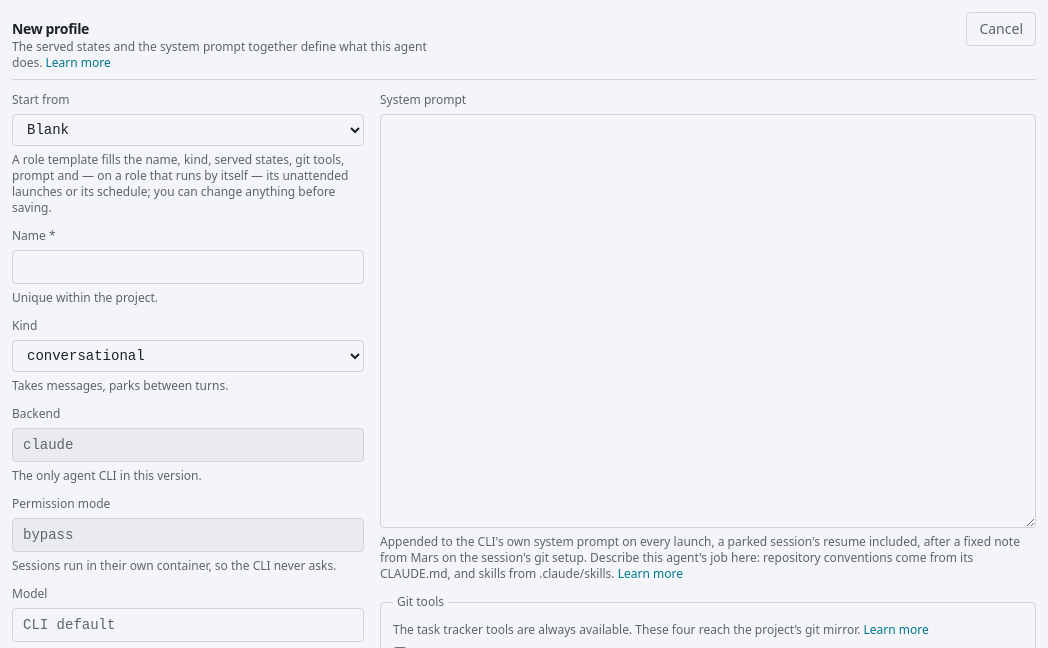
Test: ProfilesTab › keeps a half-written editor when the profiles refetch fails
This screenshot has width=1048, height=648.
# The label carries the required marker: `Name *`.
Type "scout" into the field labelled "Name *" at (188, 267), box [12,250,364,284]
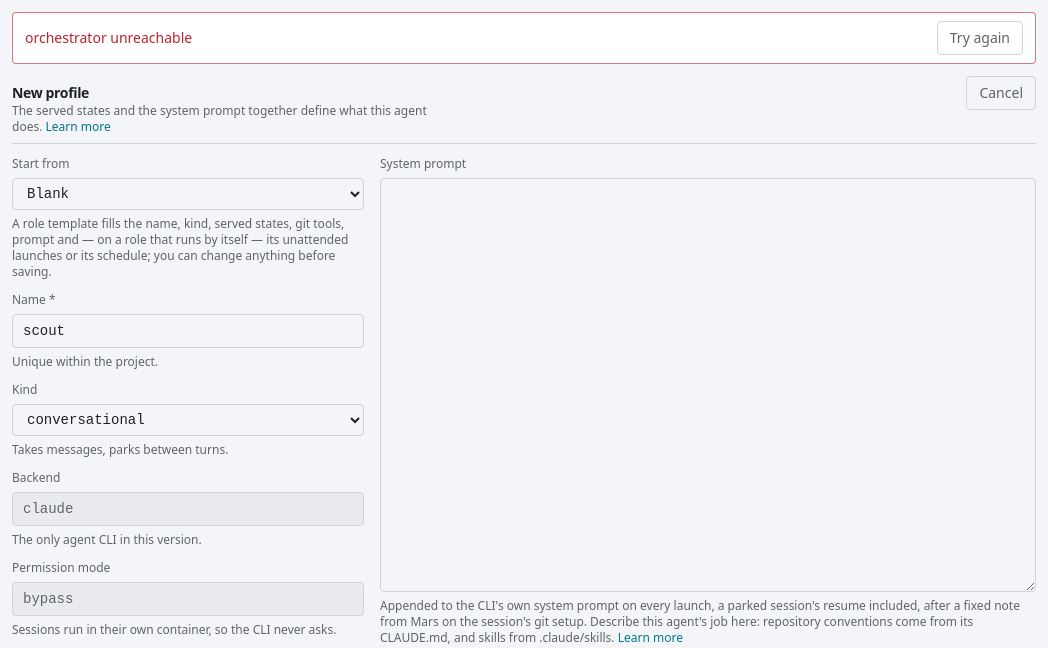
Check: the message shows "orchestrator unreachable", box [25,28,192,47]
Check: the button "Try again" is shown, box [937,21,1023,55]
